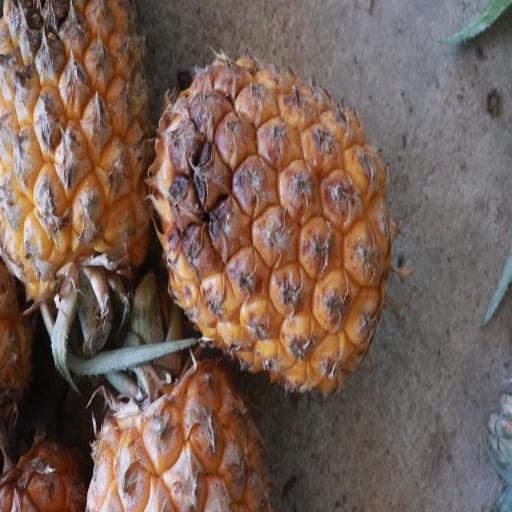Pineapple - v8 v1: (140, 48, 394, 402), (0, 2, 157, 355), (80, 298, 274, 512)
